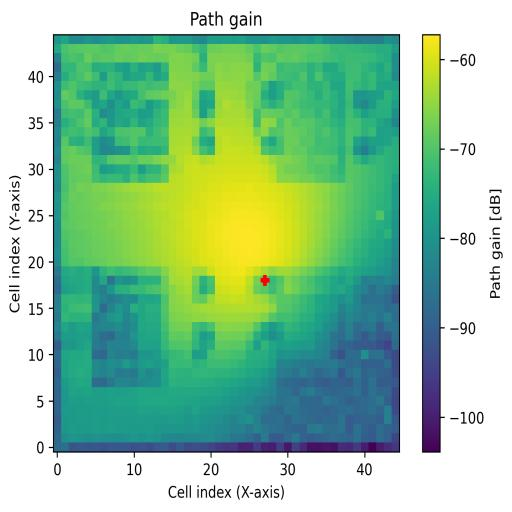Concrete: (277, 63, 346, 182)
Glass: (92, 64, 169, 182)
Metal: (270, 268, 348, 388)
Wood: (91, 268, 169, 386)
